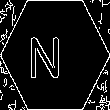N_N: (38, 30, 72, 80)
